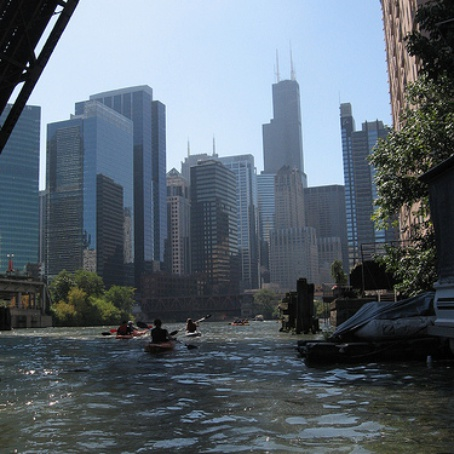building: (87, 80, 170, 290), (39, 108, 135, 280), (270, 159, 351, 297), (189, 151, 253, 285), (1, 98, 44, 295), (339, 111, 392, 247), (254, 73, 310, 186), (165, 167, 188, 290)
river: (13, 317, 445, 454)
